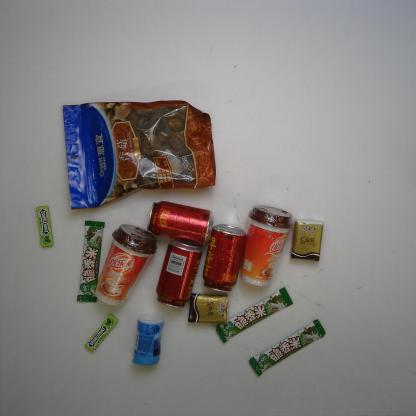Chocolate: (215, 286, 295, 343), (248, 318, 326, 376), (76, 219, 105, 303)
Dried Food: (60, 97, 217, 210)
Drink: (155, 238, 204, 310), (202, 223, 248, 293), (146, 200, 215, 246)
Gum: (131, 316, 165, 366), (84, 314, 119, 352), (35, 204, 54, 247)
Instant Drink: (94, 223, 158, 307), (240, 204, 295, 288)
Tissue: (289, 218, 324, 262), (188, 292, 230, 324)
